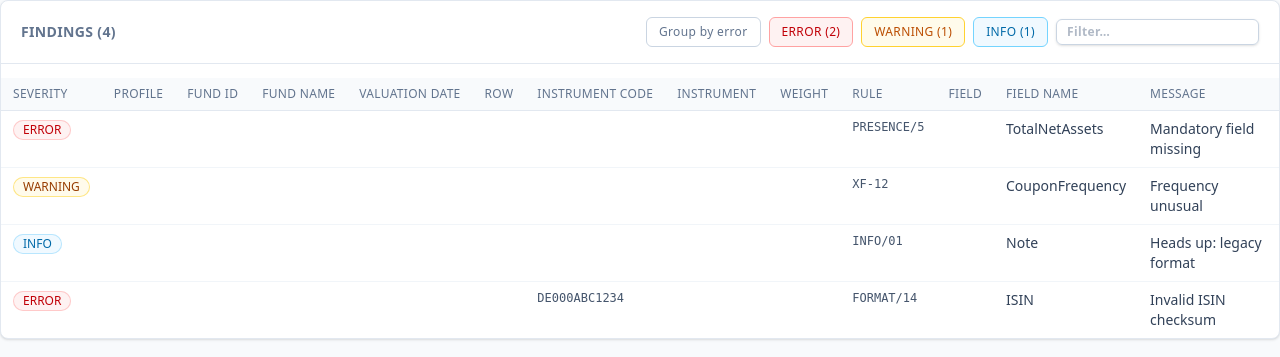
Test: FindingsTable › shows the empty-state hint when all severities are toggled off
Click the button "ERROR (2)".
click(811, 32)  # box [768, 17, 853, 47]
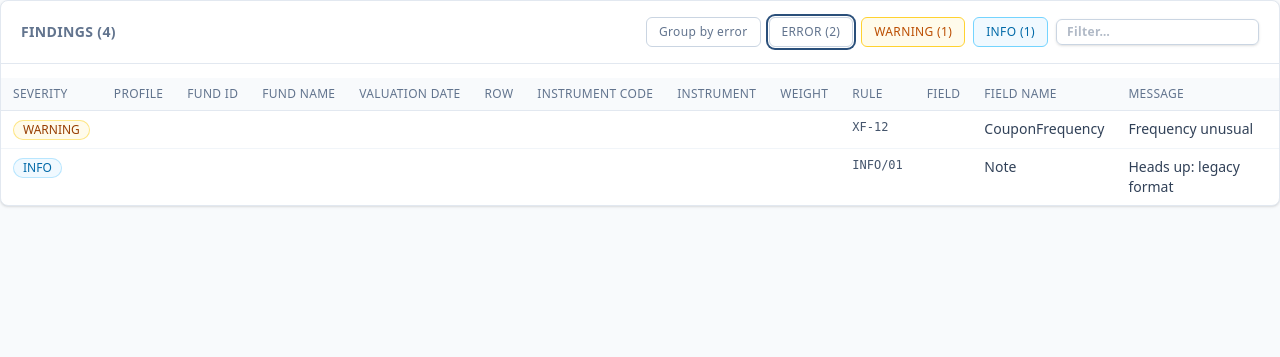
Click the button "WARNING (1)".
click(913, 32)  # box [861, 17, 965, 47]
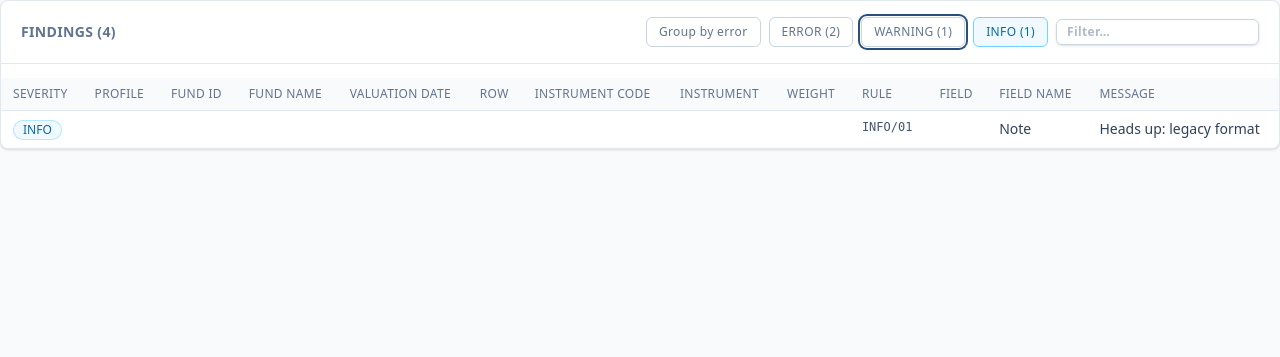
Click the button "INFO (1)".
click(1011, 32)  # box [973, 17, 1048, 47]
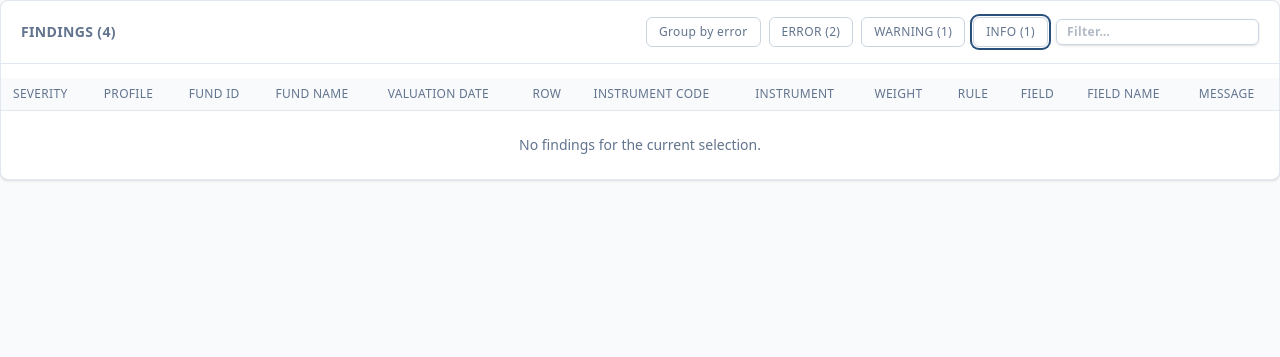
Now the text "No findings for the current selection." is shown, box [1, 110, 1279, 179]
